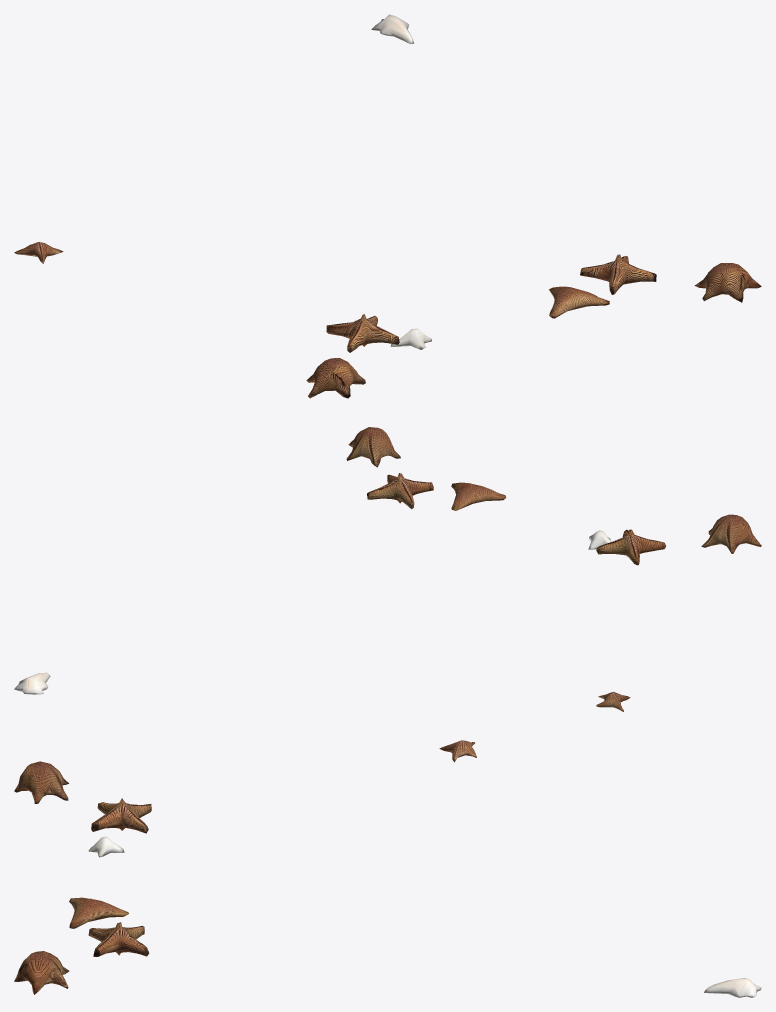
File: tunnel_floor_sandy.glb
The picture shows the model from 3 angles, top to bottom: view 1: azimuth 30°, elevation 25°; view 2: azimuth 150°, elevation 25°; view 3: azimuth 270°, elevation 25°; orthographic projection. The views are drawn at different scales.
Parts seen in each view (by area): view 1: Mesh_0; view 2: Mesh_0; view 3: Mesh_0.
Boxes of the visible parts, x1,y1,x2,y2 form: Mesh_0: (14,14,761,398); Mesh_0: (14,427,761,711); Mesh_0: (14,740,761,997).
Bounding box in the file's own units: 1.54 × 0.1018 × 1.91.
Materials: 1 (1 with a texture image).
